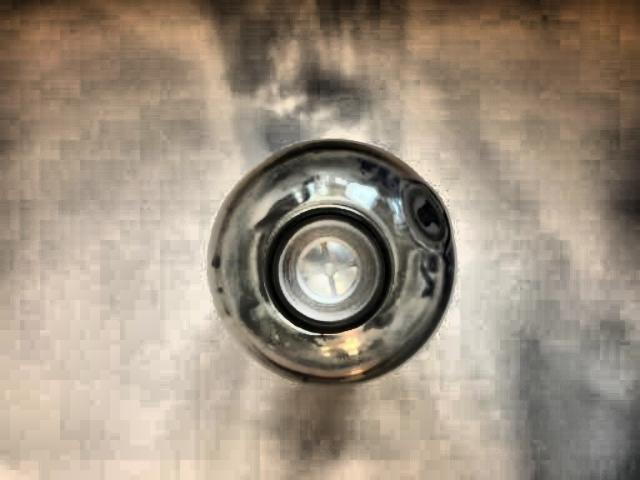Bottles: (173, 132, 482, 403)
